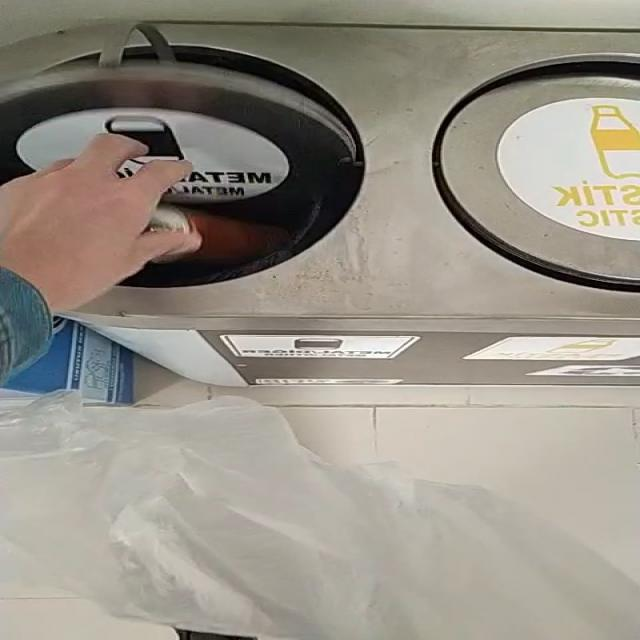bin: (0, 20, 639, 386)
metal: (145, 204, 289, 263)
